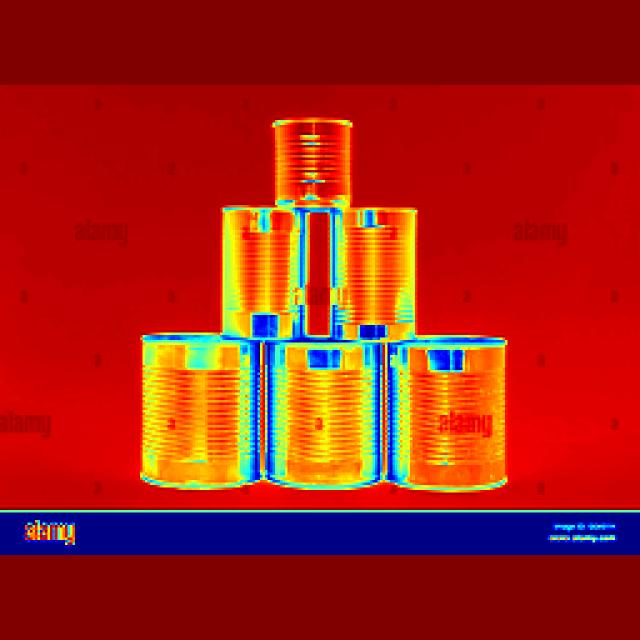Aluminium Food Cans: (134, 332, 264, 489), (258, 334, 382, 492), (378, 337, 507, 485), (321, 205, 424, 346), (215, 204, 310, 338), (264, 111, 358, 208)
